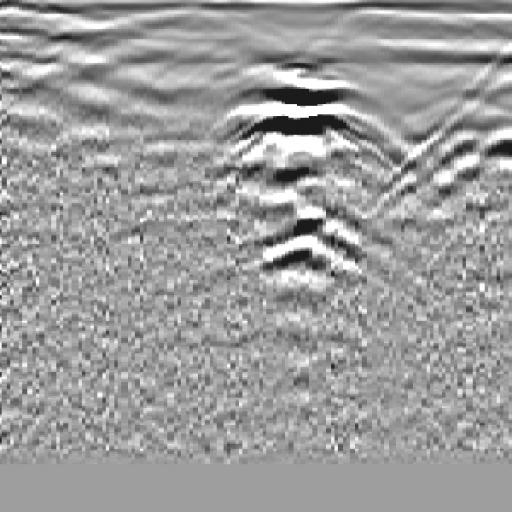metalic: (190, 49, 420, 342)
